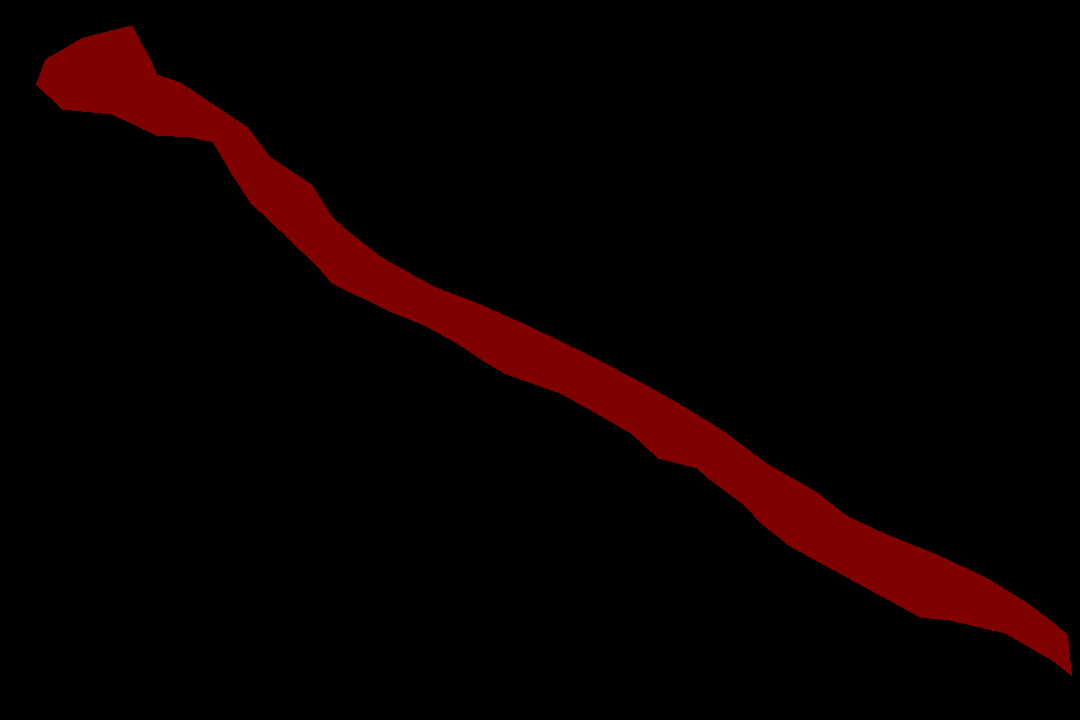fire: (36, 25, 1071, 675)
